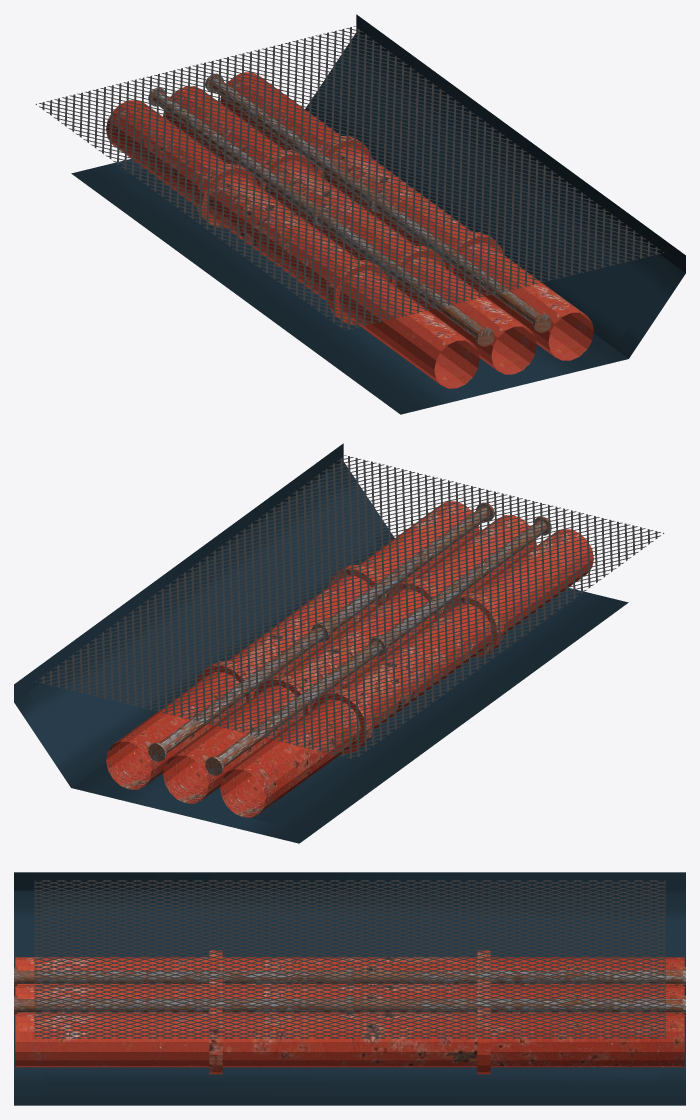
The model's file is HallwayFloorV2.glb.
The picture shows the model from 3 angles, top to bottom: view 1: azimuth 30°, elevation 25°; view 2: azimuth 150°, elevation 25°; view 3: azimuth 270°, elevation 25°; orthographic projection.
Parts seen in each view (by area): view 1: Plane.001, Plane, BlueRustPipe.001, BlueRustPipe, BlueRustPipe.002, Cylinder.005, Cylinder.004; view 2: Plane.001, Plane, BlueRustPipe.001, BlueRustPipe, BlueRustPipe.002, Cylinder.005, Cylinder.004; view 3: Plane, Plane.001, BlueRustPipe, BlueRustPipe.002, BlueRustPipe.001, Cylinder.005, Cylinder.004.
Part boxes in pixels (x1,y1,x2,y2): Plane.001: (35,26,664,330); Plane: (71,14,685,414); BlueRustPipe.001: (106,100,479,388); BlueRustPipe: (220,72,593,360); BlueRustPipe.002: (163,86,536,374); Cylinder.005: (205,73,551,332); Cylinder.004: (148,87,494,346); Plane.001: (35,455,664,759); Plane: (14,443,628,843); BlueRustPipe.001: (220,529,593,817); BlueRustPipe: (106,501,479,789); BlueRustPipe.002: (163,515,536,803); Cylinder.005: (148,502,494,761); Cylinder.004: (205,516,551,775); Plane: (14,872,685,1105); Plane.001: (34,880,665,1038); BlueRustPipe: (15,1007,684,1074); BlueRustPipe.002: (15,979,684,1013); BlueRustPipe.001: (15,950,684,985); Cylinder.005: (14,995,685,1015); Cylinder.004: (14,967,685,987).
Size of what is drawn, in the model's own units: 3 by 0.7501 by 5.
Materials: 4 (4 with a texture image).
